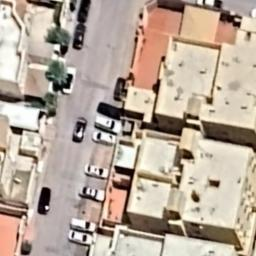SUV: (94, 112, 123, 136)
sedan: (76, 184, 106, 204), (60, 63, 77, 96), (84, 162, 111, 182), (70, 115, 88, 144), (67, 229, 94, 247), (71, 22, 87, 52), (38, 184, 52, 217), (90, 130, 118, 146), (113, 75, 127, 103), (75, 0, 91, 24)
van: (70, 214, 96, 234)
